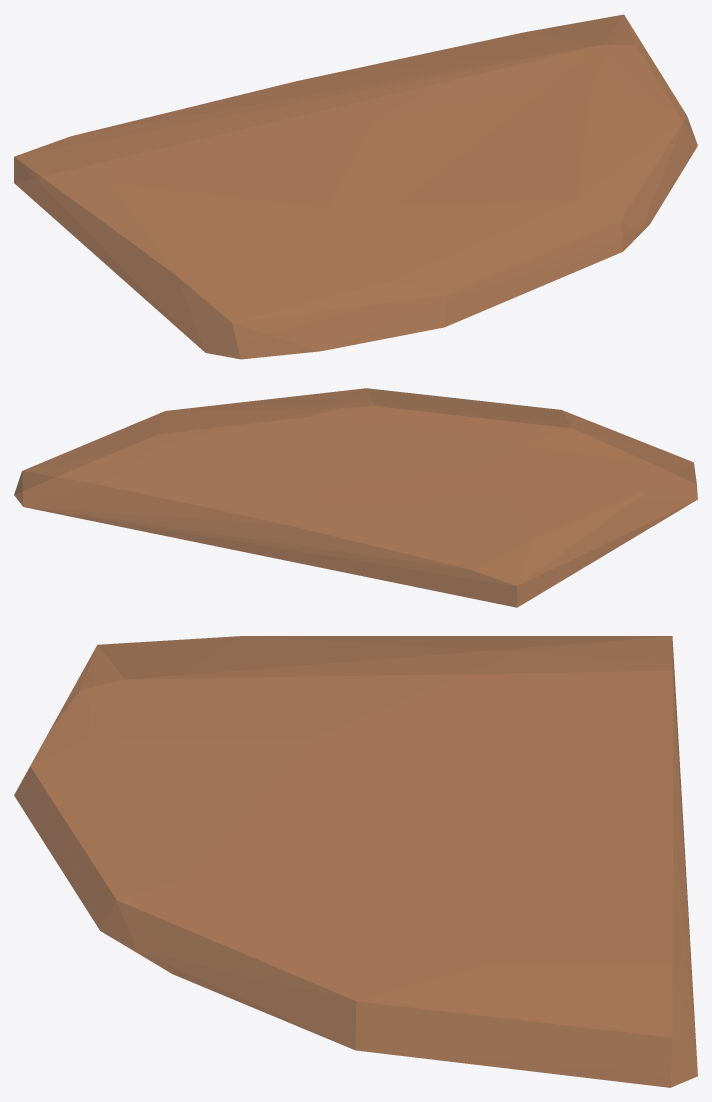
The picture shows the model from 3 angles, top to bottom: view 1: azimuth 30°, elevation 25°; view 2: azimuth 150°, elevation 25°; view 3: azimuth 270°, elevation 25°; orthographic projection. The views are drawn at different scales.
Parts seen in each view (by area): view 1: Shape_IndexedFaceSet.005_Shape_IndexedFaceSet.3499; view 2: Shape_IndexedFaceSet.005_Shape_IndexedFaceSet.3499; view 3: Shape_IndexedFaceSet.005_Shape_IndexedFaceSet.3499.
Boxes of the visible parts, <box> form: Shape_IndexedFaceSet.005_Shape_IndexedFaceSet.3499: <box>14,14,697,359</box>; Shape_IndexedFaceSet.005_Shape_IndexedFaceSet.3499: <box>14,388,697,607</box>; Shape_IndexedFaceSet.005_Shape_IndexedFaceSet.3499: <box>14,636,697,1087</box>.
Size of the model in its own units: 0.3883 by 0.0279 by 0.2738.
